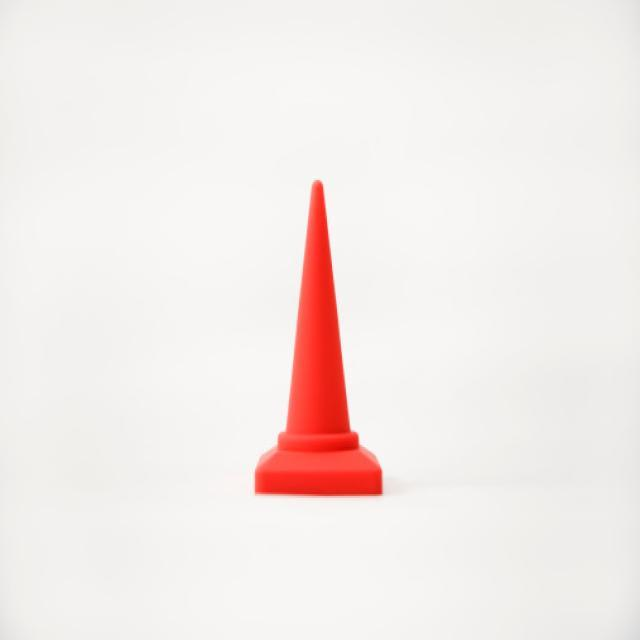traffic cone: (253, 179, 384, 497)
